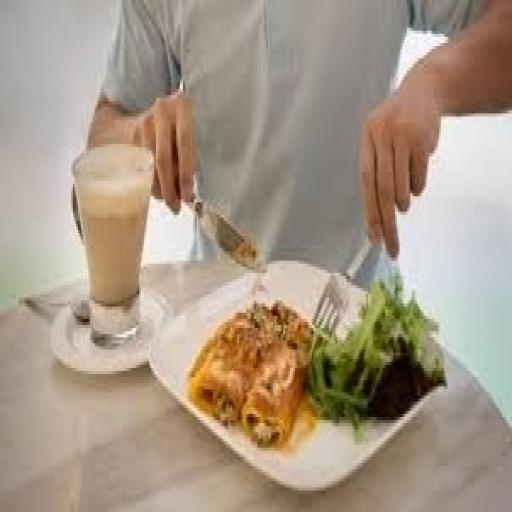eating: (76, 0, 509, 264)
